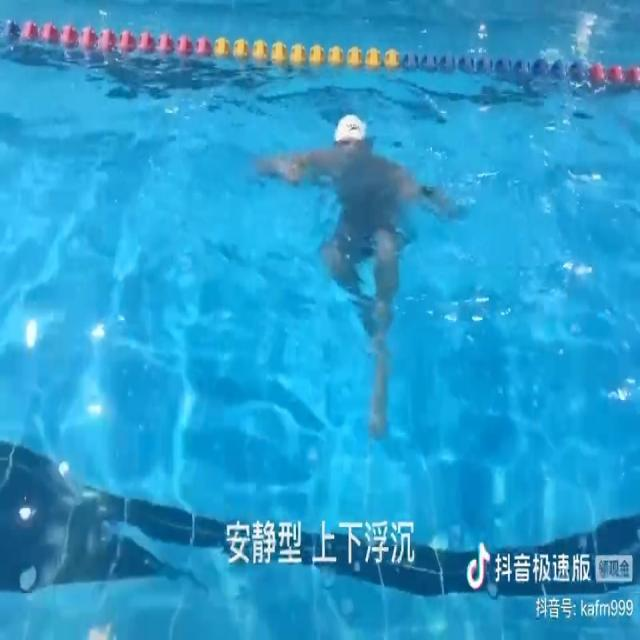Drowning: (263, 113, 456, 437)
